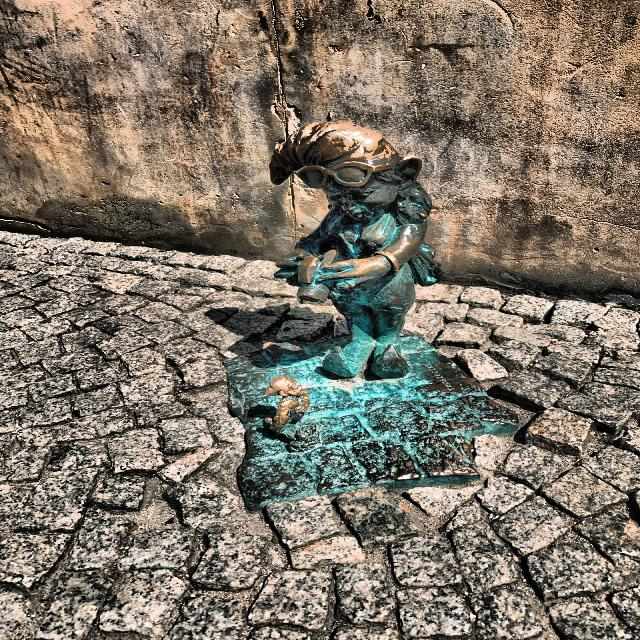Troszka i Adoratorek: (223, 122, 521, 512)
